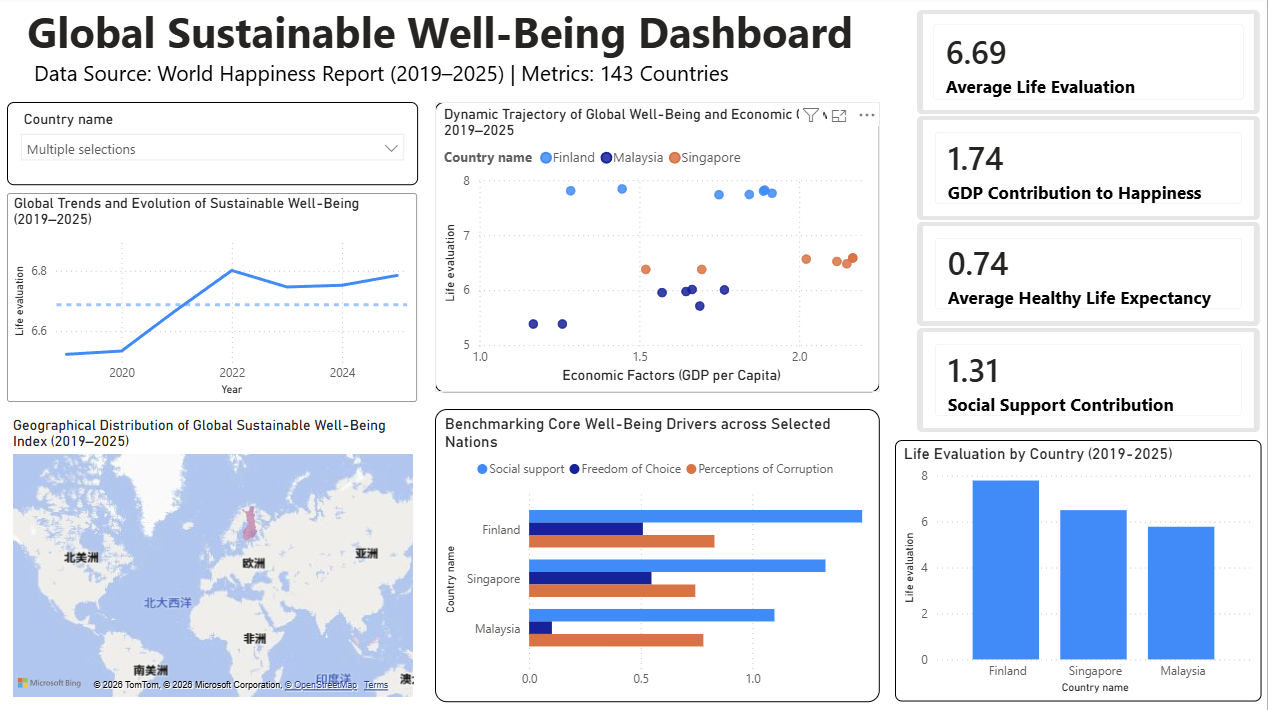

The page's visual inventory and layout, read from the dashboard file:
{"tool":"powerbi","page":{"name":"第 1 页","canvas":[1280,720],"ordinal":0},"visuals":[{"type":"lineChart","title":"Global Trends and Evolution of Sustainable Well-Being (2019–2025)","fields":{"Category":["Data for Figure 2 1 (2011–2025).Year"],"Y":["Avg(Data for Figure 2 1 (2011–2025).Life evaluation (3-year average))"]},"box":[8.1,197.9,413.9,211],"z":8000},{"type":"scatterChart","title":"Dynamic Trajectory of Global Well-Being and Economic Growth, 2019–2025","fields":{"Series":["Data for Figure 2 1 (2011–2025).Country name"],"X":["Data for Figure 2 1 (2011–2025).Explained by: Log GDP per capita"],"Y":["Data for Figure 2 1 (2011–2025).Life evaluation (3-year average)"]},"box":[440.1,106,449.2,292.7],"z":9000},{"type":"clusteredBarChart","title":"Benchmarking Core Well-Being Drivers across Selected Nations","fields":{"Category":["Data for Figure 2 1 (2011–2025).Country name"],"Y":["Avg(Data for Figure 2 1 (2011–2025).Explained by: Social support)","Avg(Data for Figure 2 1 (2011–2025).Explained by: Perceptions of corruption)","Avg(Data for Figure 2 1 (2011–2025).Explained by: Freedom to make life choices)"]},"box":[440.1,415.9,449.2,295.8],"z":10000},{"type":"slicer","fields":{"Values":["Data for Figure 2 1 (2011–2025).Country name"]},"box":[8.1,106,414.9,83.8],"z":11000},{"type":"cardVisual","fields":{"Data":["Avg(Data for Figure 2 1 (2011–2025).Life evaluation (3-year average))"]},"box":[926.3,13.4,346,105],"z":12000},{"type":"clusteredColumnChart","title":"Life Evaluation by Country (2019-2025)","fields":{"Category":["Data for Figure 2 1 (2011–2025).Country name"],"Y":["Avg(Data for Figure 2 1 (2011–2025).Life evaluation (3-year average))"]},"box":[904.5,447.2,370.5,264.5],"z":13000},{"type":"cardVisual","fields":{"Data":["Avg(Data for Figure 2 1 (2011–2025).Explained by: Log GDP per capita)"]},"box":[926.3,120.2,346,105],"z":14000},{"type":"filledMap","title":"Geographical Distribution of Global Sustainable Well-Being Index (2019–2025)","fields":{"Category":["Data for Figure 2 1 (2011–2025).Country name"]},"box":[9.1,424,413.9,287.7],"z":15000},{"type":"textbox","box":[1,0,888.6,67],"z":16000},{"type":"cardVisual","fields":{"Data":["Avg(Data for Figure 2 1 (2011–2025).Explained by: Social support)"]},"box":[926.3,333.8,346,105],"z":17000},{"type":"cardVisual","fields":{"Data":["Avg(Data for Figure 2 1 (2011–2025).Explained by: Healthy life expectancy)"]},"box":[926.7,227.1,346,105],"z":18000},{"type":"textbox","box":[30.3,56.5,723.1,49.5],"z":18001}]}

Visuals, with their boxes in screenshot pixels (x1, y1, x2, y2), scaled from the page's 1280x720 canvas onto the 1268x710 screenshot:
"Global Trends and Evolution of Sustainable Well-Being (2019–2025)" lineChart: detection(8, 195, 418, 403)
"Dynamic Trajectory of Global Well-Being and Economic Growth, 2019–2025" scatterChart: detection(436, 105, 881, 393)
"Benchmarking Core Well-Being Drivers across Selected Nations" clusteredBarChart: detection(436, 410, 881, 702)
slicer - Data for Figure 2 1 (2011–2025).Country name: detection(8, 105, 419, 187)
cardVisual - Avg(Data for Figure 2 1 (2011–2025).Life evaluation (3-year average)): detection(918, 13, 1260, 117)
"Life Evaluation by Country (2019-2025)" clusteredColumnChart: detection(896, 441, 1263, 702)
cardVisual - Avg(Data for Figure 2 1 (2011–2025).Explained by: Log GDP per capita): detection(918, 119, 1260, 222)
"Geographical Distribution of Global Sustainable Well-Being Index (2019–2025)" filledMap: detection(9, 418, 419, 702)
textbox: detection(1, 0, 881, 66)
cardVisual - Avg(Data for Figure 2 1 (2011–2025).Explained by: Social support): detection(918, 329, 1260, 433)
cardVisual - Avg(Data for Figure 2 1 (2011–2025).Explained by: Healthy life expectancy): detection(918, 224, 1261, 327)
textbox: detection(30, 56, 746, 105)
